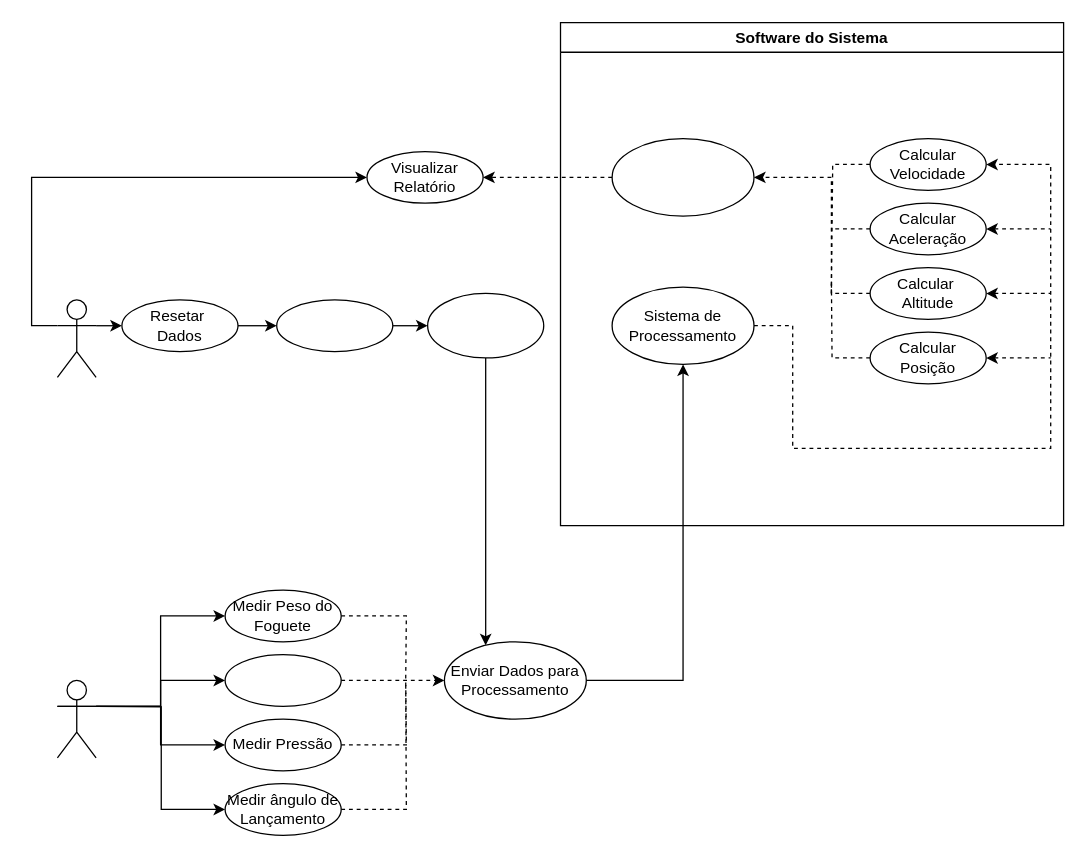
Some shapes in this 1086 by 858 pixel diagram are drawn without their labels. Each missing label, with the centre of its shape:
Gerar Relatório Final: (682,176)
Iniciar Lançamento: (334,325)
Medir Volume d'água: (282,679)
Registrar Dados do Lançamento: (485,325)
Sistema de Sensores: (76,718)
Usuário: (76,338)
